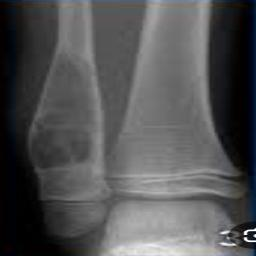cancer: (30, 40, 104, 171)
